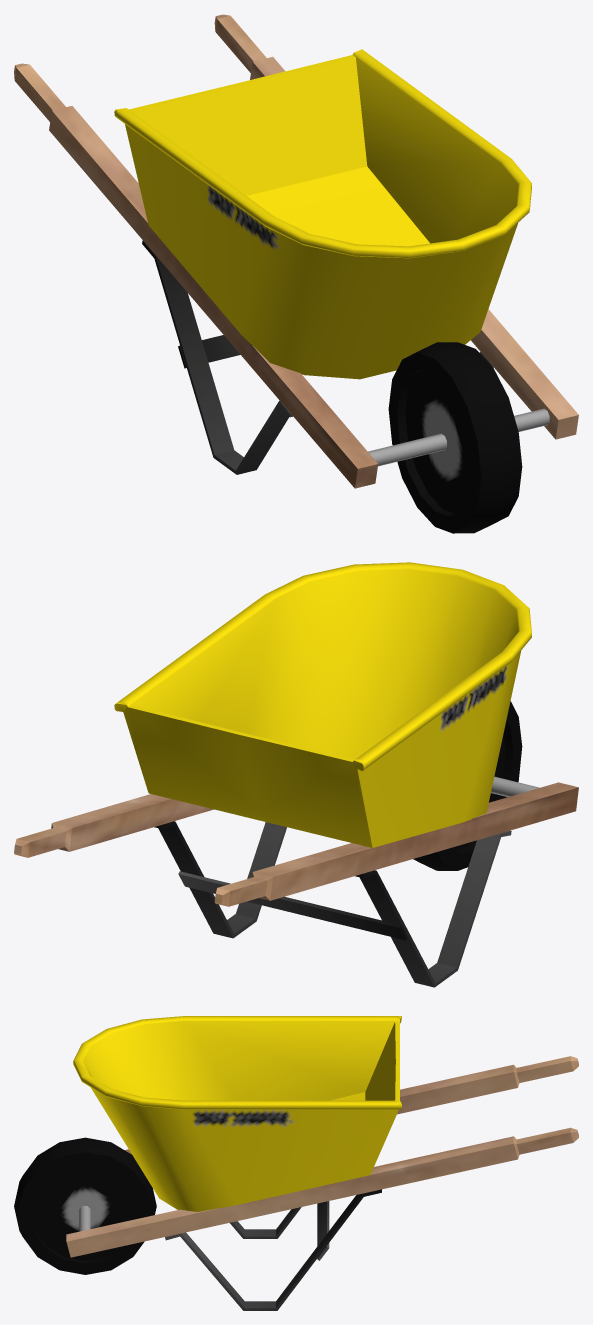
The model's file is HCWheelbarrow.fbx.
3 renders of one model, top to bottom at view 1: azimuth 30°, elevation 25°; view 2: azimuth 150°, elevation 25°; view 3: azimuth 270°, elevation 25°, orthographic. The views are drawn at different scales.
Parts seen in each view (by area): view 1: Wheelbarrow; view 2: Wheelbarrow; view 3: Wheelbarrow.
Boxes of the visible parts, box(x1,y1,x2,y2) form: Wheelbarrow: box(14, 14, 578, 533); Wheelbarrow: box(14, 562, 578, 987); Wheelbarrow: box(14, 1016, 578, 1310).
Size of the model in its own units: 0.3771 by 1.01 by 0.4186.
